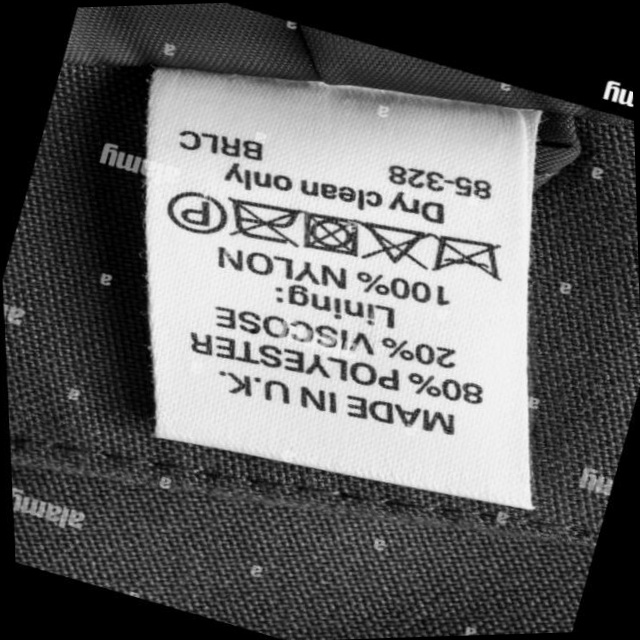DN_bleach: (362, 219, 425, 273)
DN_iron: (228, 195, 300, 251)
DN_tumble_dry: (301, 207, 359, 261)
DN_wash: (426, 229, 505, 286)
dry_clean_any_solvent_except_trichloroethylene: (163, 188, 229, 243)
